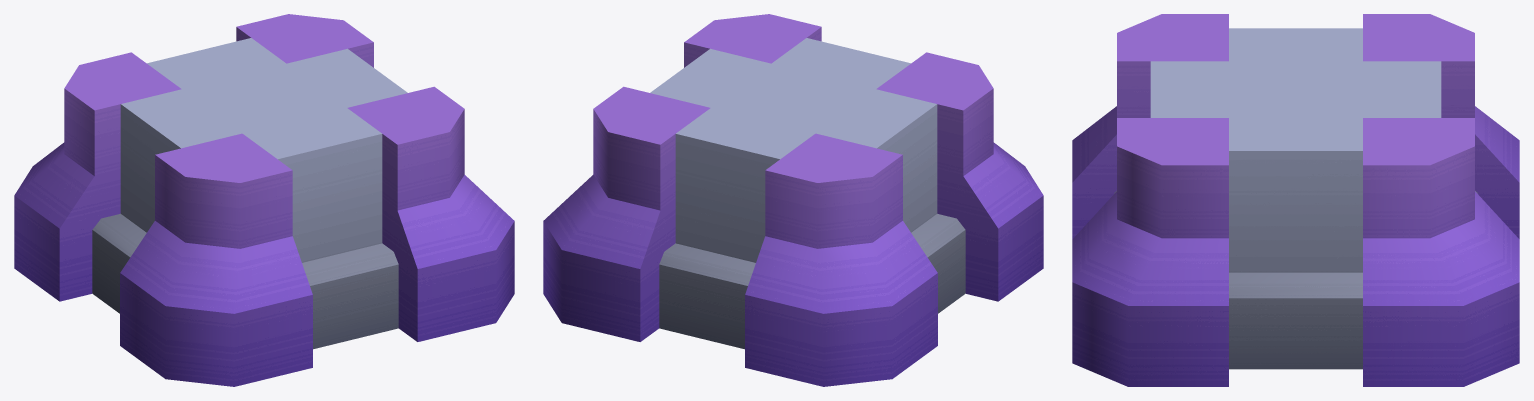
Rendered from tower-defense-kit--tower-square-bottom-b.glb.
The picture shows the model from 3 angles, left to right: view 1: azimuth 30°, elevation 25°; view 2: azimuth 150°, elevation 25°; view 3: azimuth 270°, elevation 25°; orthographic projection. The views are drawn at different scales.
Parts seen in each view (by area): view 1: tower-square-bottom-b; view 2: tower-square-bottom-b; view 3: tower-square-bottom-b.
Boxes of the visible parts, left/top/right/bottom form: tower-square-bottom-b: left=14, top=14, right=514, bottom=386; tower-square-bottom-b: left=543, top=14, right=1043, bottom=386; tower-square-bottom-b: left=1072, top=14, right=1519, bottom=386.
Size of the model in its own units: 1 by 0.5 by 1.
Materials: 1 (1 with a texture image).
